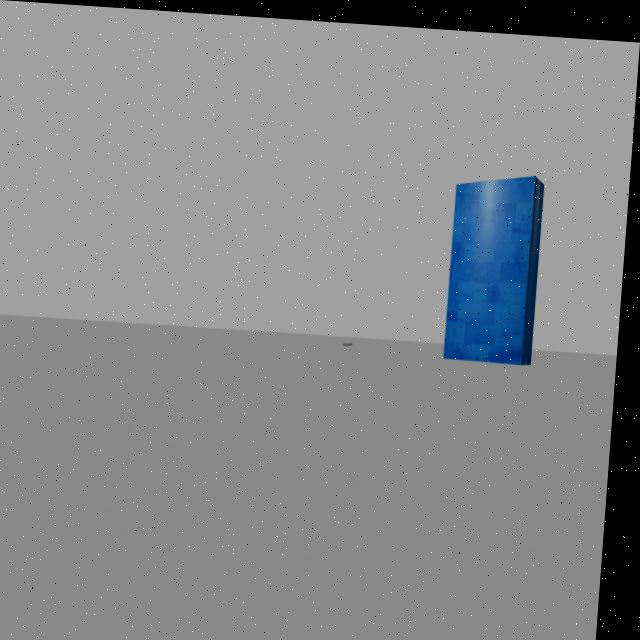bowl: (340, 334, 366, 344)
shelf: (432, 149, 564, 382)
